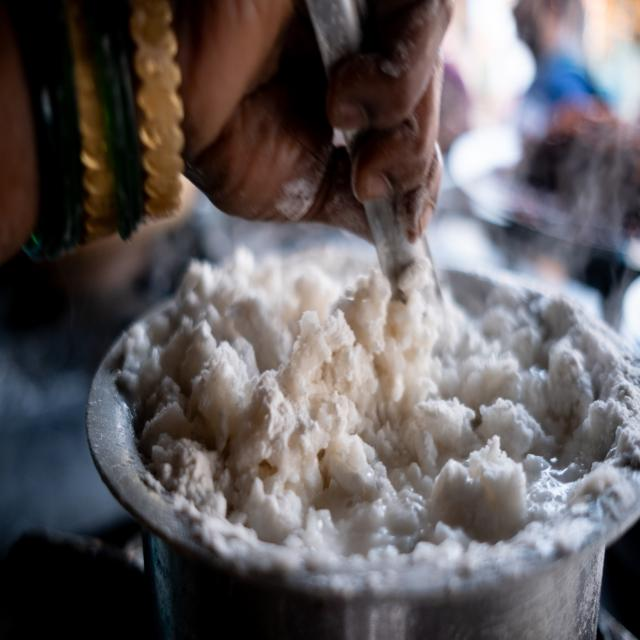UPMA: (121, 249, 638, 617)
